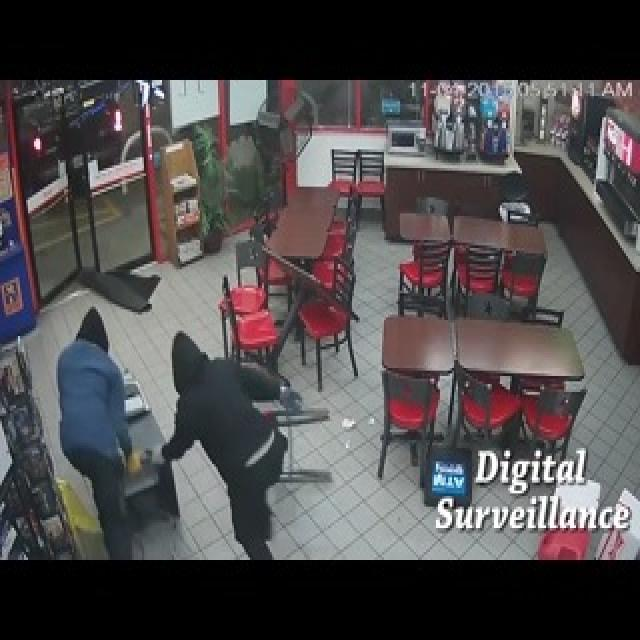thief: (168, 310, 219, 419), (64, 282, 128, 366)
